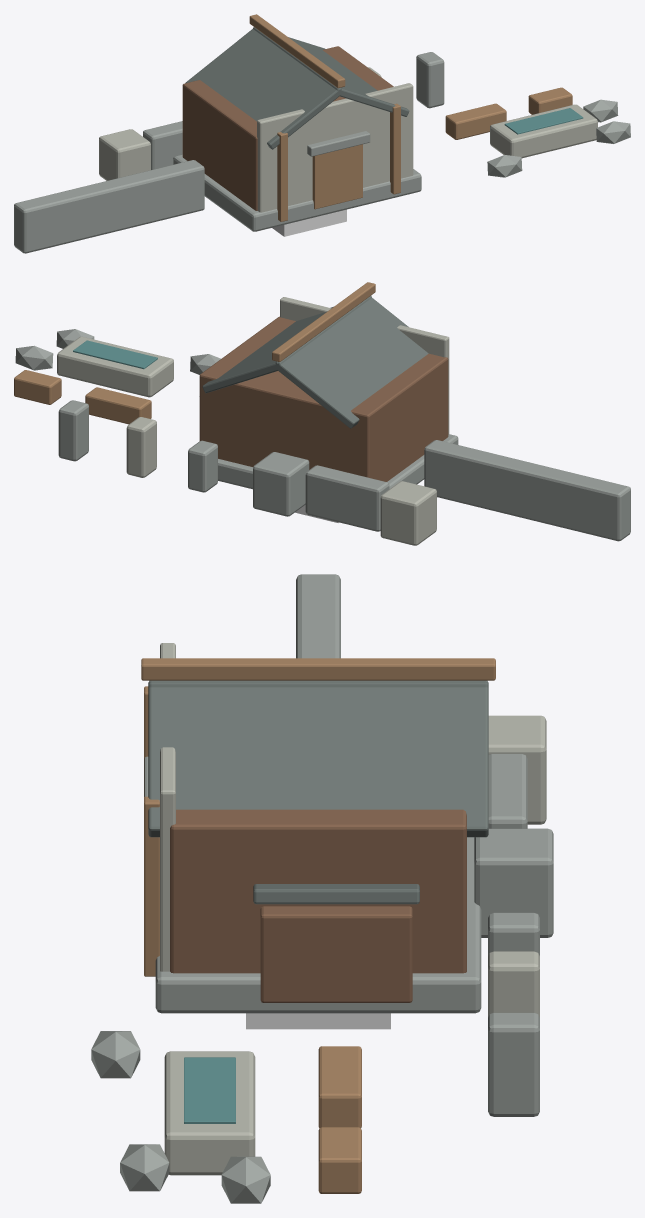
Rendered from barrosan_hamlet_vertical_slice_assets.glb.
3 views of the same model, one above another, from view 1: azimuth 30°, elevation 25°; view 2: azimuth 150°, elevation 25°; view 3: azimuth 270°, elevation 25° (orthographic). The views are drawn at different scales.
Parts seen in each view (by area): view 1: Wall_Straight, Barn_Stone_Gable_Front, Barn_Roof_Left, Barn_Timber_Walls, Barn_Granite_Foundation, Stone_Trough_Basin, Barn_Door, Wall_InternalCorner, Barn_Roof_Right, Wall_GatewayRight, Barn_Ridge, Wall_Short (+11 smaller); view 2: Barn_Timber_Walls, Wall_Straight, Barn_Roof_Left, Wall_Short, Stone_Trough_Basin, Wall_InternalCorner, Wall_ExternalCorner, Barn_Roof_Right, Barn_Stone_Gable_Front, Wall_GatewayRight, Wall_GatewayLeft, Barn_Ridge (+9 smaller); view 3: Barn_Roof_Right, Barn_Timber_Walls, Shed_LeanTo, Barn_Granite_Foundation, Barn_Ridge, Stone_Trough_Basin, Wall_ExternalCorner, Wall_GatewayRight, Wall_Straight, Wall_InternalCorner, Shed_LeanTo_Roof, Stone_Trough_Water (+13 smaller).
Part boxes in pixels (x1,y1,x2,y2): Wall_Straight: (14,160,204,253); Barn_Stone_Gable_Front: (257,83,413,212); Barn_Roof_Left: (185,29,342,149); Barn_Timber_Walls: (182,46,393,210); Barn_Granite_Foundation: (173,154,421,231); Stone_Trough_Basin: (490,104,597,158); Barn_Door: (312,144,362,209); Wall_InternalCorner: (99,129,150,180); Barn_Roof_Right: (253,27,409,116); Wall_GatewayRight: (416,52,444,108); Barn_Ridge: (249,14,345,88); Wall_Short: (143,121,182,169); Barn_Timber_Walls: (199,316,448,481); Wall_Straight: (424,440,630,541); Barn_Roof_Left: (275,298,428,428); Wall_Short: (305,465,389,531); Stone_Trough_Basin: (57,336,173,397); Wall_InternalCorner: (380,481,436,545); Wall_ExternalCorner: (253,452,309,516); Barn_Roof_Right: (202,296,371,393); Barn_Stone_Gable_Front: (280,297,449,434); Wall_GatewayRight: (58,400,88,461); Wall_GatewayLeft: (126,417,156,477); Barn_Ridge: (272,282,375,361); Barn_Roof_Right: (148,680,488,837); Barn_Timber_Walls: (170,809,466,973); Shed_LeanTo: (260,906,412,1002); Barn_Granite_Foundation: (155,837,481,1013); Barn_Ridge: (141,658,495,680); Stone_Trough_Basin: (164,1051,255,1175); Wall_ExternalCorner: (474,828,553,937); Wall_GatewayRight: (488,1012,539,1116); Wall_Straight: (296,574,340,658); Wall_InternalCorner: (488,715,546,824); Shed_LeanTo_Roof: (253,884,419,904); Stone_Trough_Water: (184,1057,235,1123).
Size of the model in its own units: 18.54 by 5.14 by 6.39.
